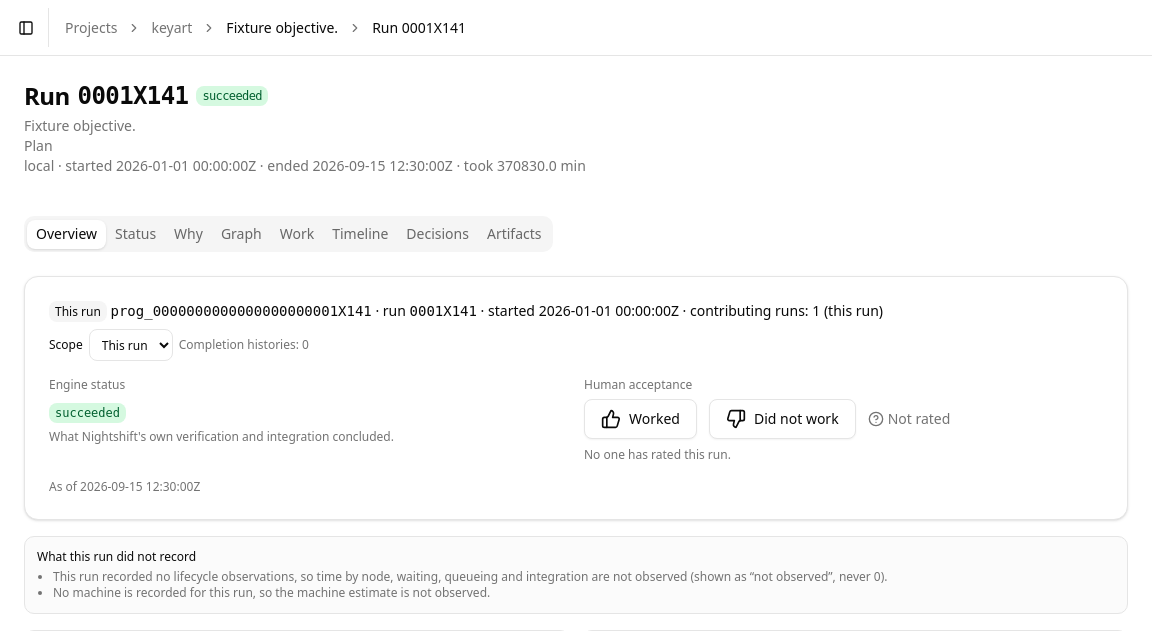
Test: the run verdict › shows an alert and no pressed button when the save fails
Click the button "Worked".
click(640, 419)  # box [584,399,697,439]
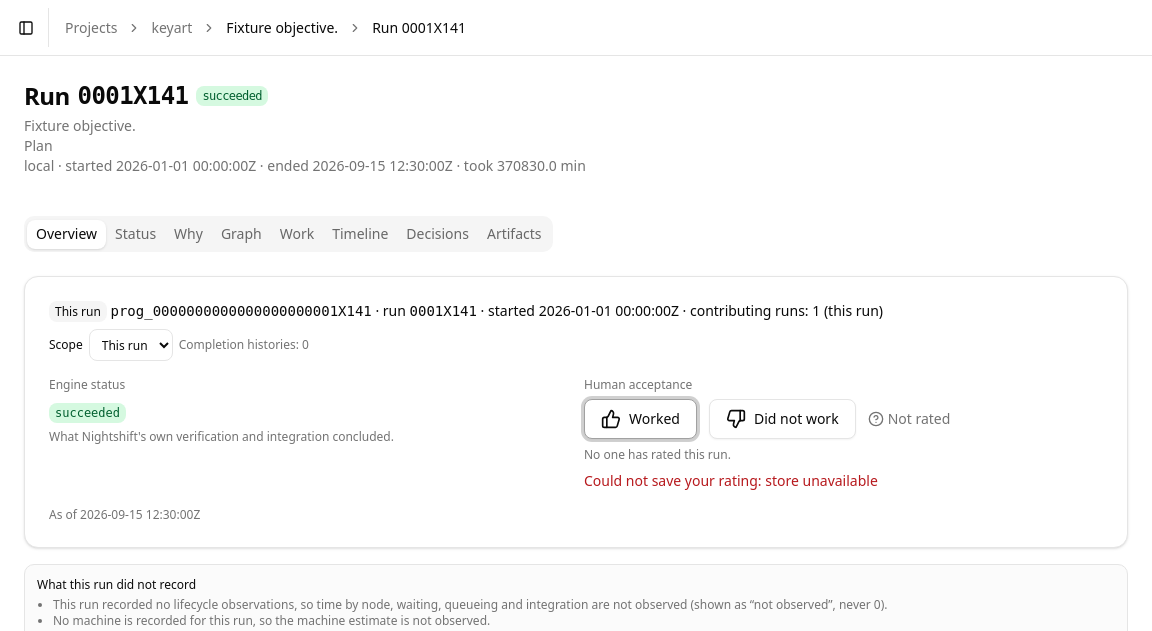
Now the message shows "store unavailable", box [584,471,878,490]
